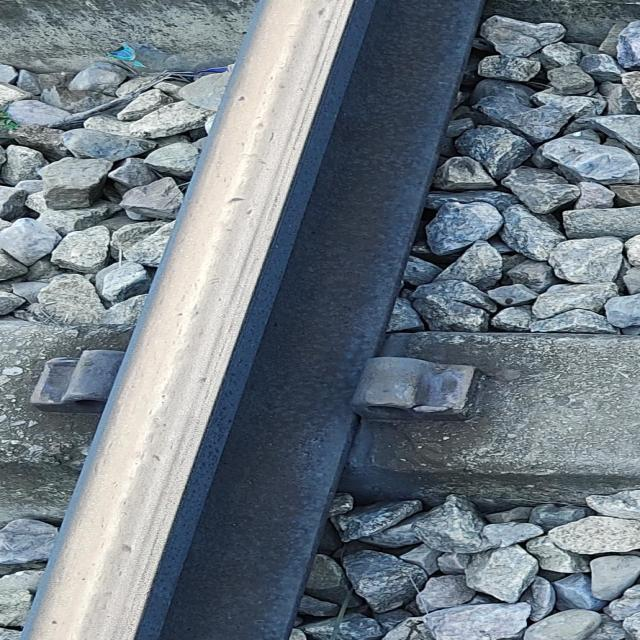Missing Fastener: (336, 332, 490, 433), (24, 334, 111, 420)
